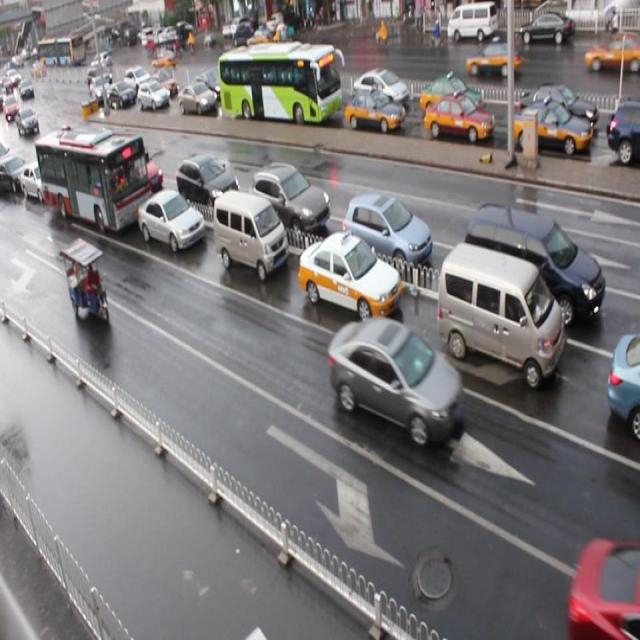car: (326, 317, 466, 447), (298, 228, 401, 322), (564, 532, 640, 640), (342, 192, 433, 276), (250, 162, 330, 234), (513, 98, 592, 156), (137, 186, 205, 251), (175, 152, 240, 211), (607, 331, 640, 437), (519, 86, 596, 131), (424, 92, 494, 140), (344, 85, 404, 133), (426, 74, 490, 119), (352, 67, 408, 108), (607, 98, 640, 160), (120, 148, 164, 194), (21, 158, 58, 202), (62, 130, 100, 169), (178, 81, 219, 117), (268, 67, 307, 102), (1, 153, 30, 193), (139, 78, 170, 112), (192, 70, 226, 99), (150, 69, 181, 98), (126, 64, 153, 91), (106, 80, 134, 106)
truck: (437, 240, 563, 388), (464, 200, 604, 329), (212, 187, 288, 279)
van: (35, 126, 154, 234), (216, 43, 340, 123)
